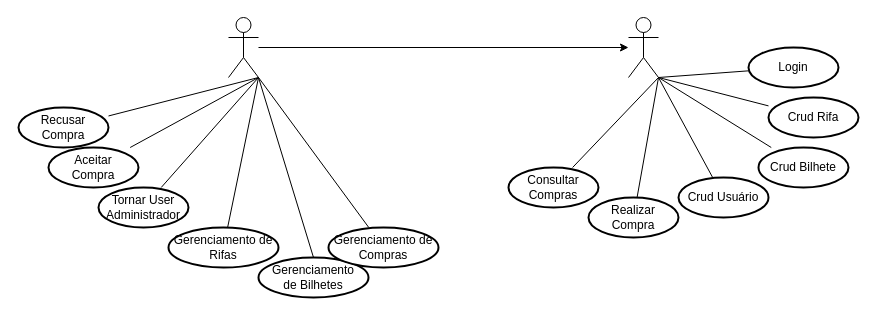
Image size: 876x316. Some labels were removed from this diagram. Here are the shapes that lost their labels. From the top down, the centre of each, then its label:
At point (243, 47): "Administrador".
At point (643, 47): "Usuário".
